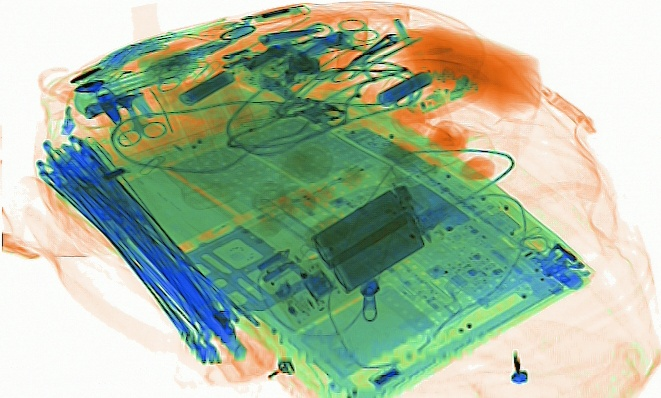powerbank: (308, 181, 428, 295)
scissors: (107, 81, 168, 145)
